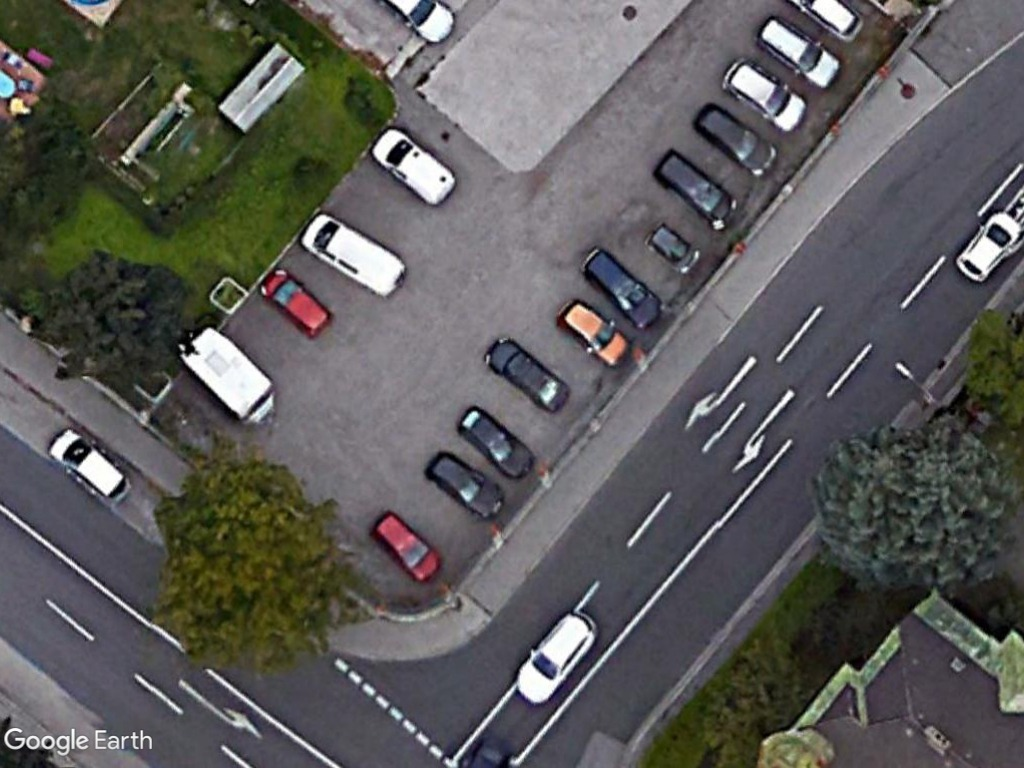car: (511, 608, 604, 704), (650, 145, 744, 236), (580, 246, 666, 331), (48, 425, 132, 511), (483, 335, 571, 417), (450, 403, 539, 483), (688, 102, 780, 179), (715, 57, 809, 131), (751, 15, 842, 91), (369, 503, 446, 590), (552, 293, 633, 370), (254, 263, 333, 338), (423, 453, 510, 520), (949, 210, 1023, 282), (646, 219, 704, 279)
van: (296, 213, 410, 298), (370, 129, 458, 206)
